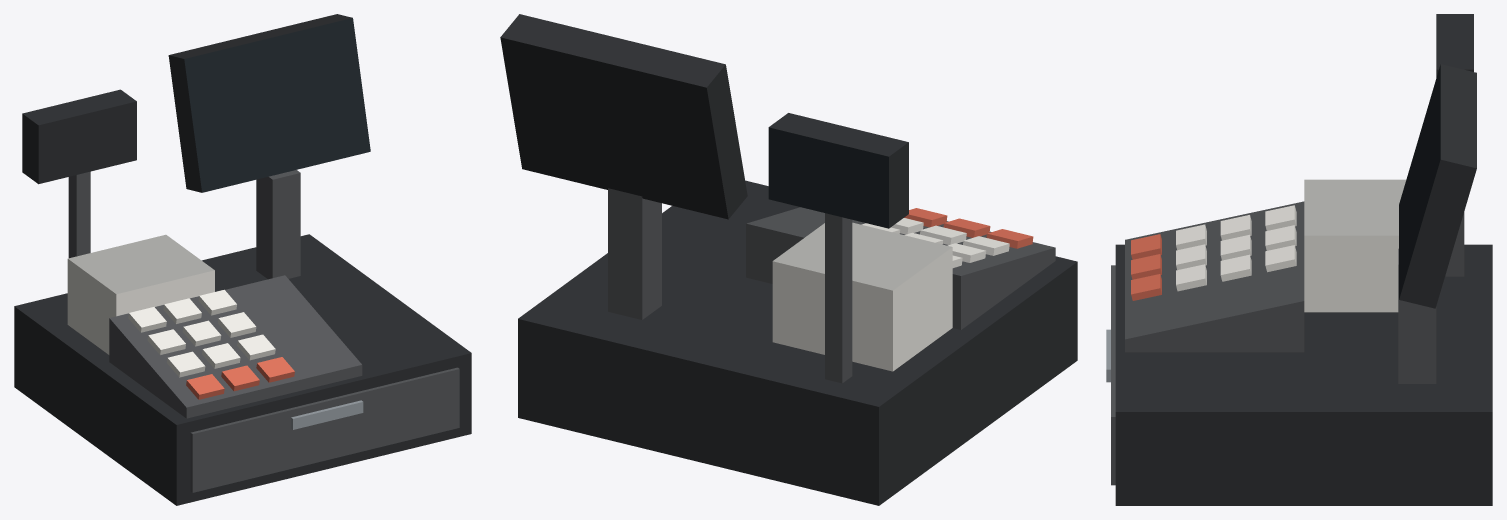
Rendered from SM_Shop_Register_01.glb.
The picture shows the model from 3 angles, left to right: view 1: azimuth 30°, elevation 25°; view 2: azimuth 150°, elevation 25°; view 3: azimuth 270°, elevation 25°; orthographic projection. The views are drawn at different scales.
Parts seen in each view (by area): view 1: SM_Shop_Register_01; view 2: SM_Shop_Register_01; view 3: SM_Shop_Register_01.
Part boxes in pixels (x1,y1,x2,y2): SM_Shop_Register_01: (14,14,471,505); SM_Shop_Register_01: (500,14,1077,505); SM_Shop_Register_01: (1106,14,1492,505).
Bounding box in the file's own units: 0.45 × 0.4194 × 0.41.
Materials: 1 (1 with a texture image).
